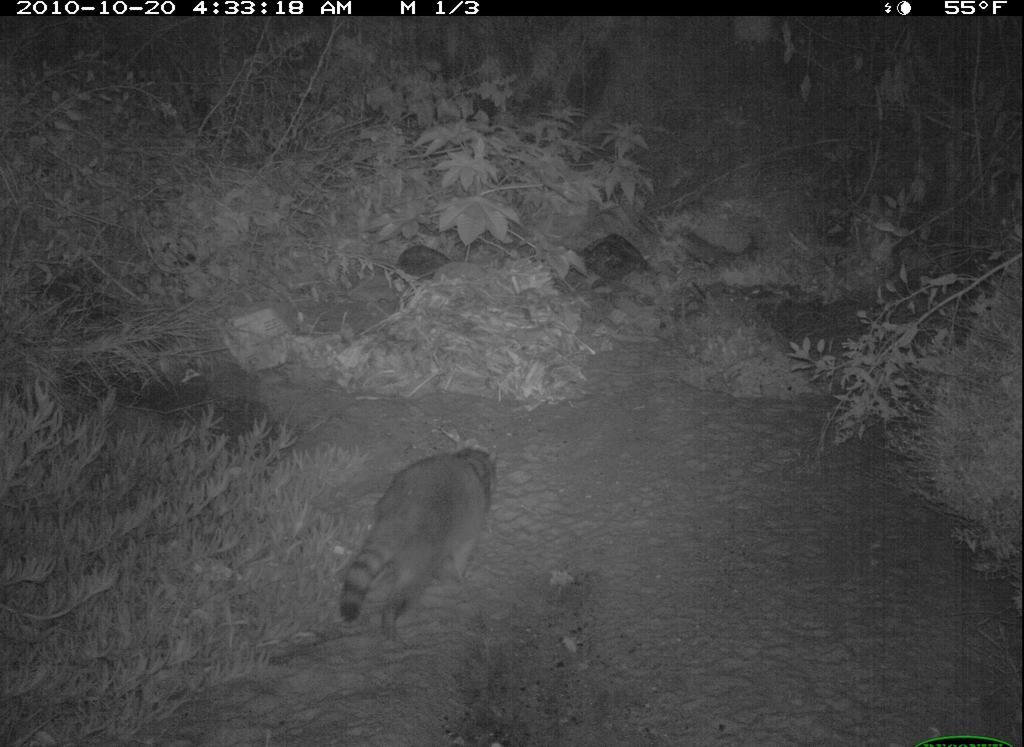raccoon: (331, 431, 507, 644)
